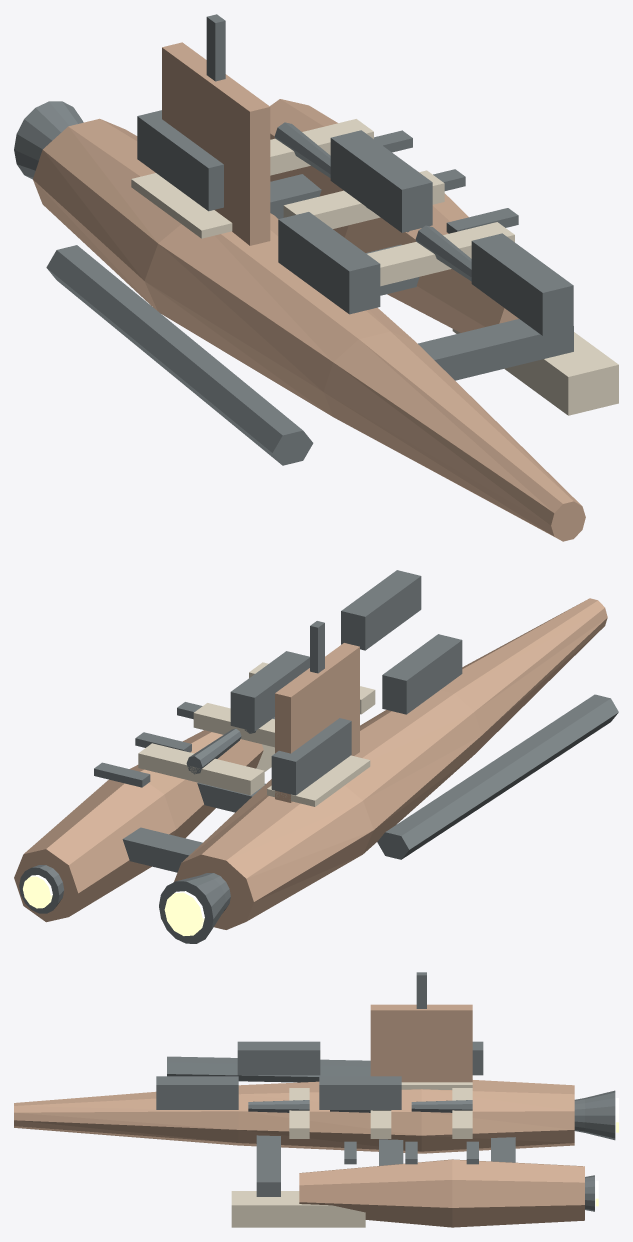
The picture shows the model from 3 angles, top to bottom: view 1: azimuth 30°, elevation 25°; view 2: azimuth 150°, elevation 25°; view 3: azimuth 270°, elevation 25°; orthographic projection. The views are drawn at different scales.
Size of the model in its own units: 8.17 by 6.28 by 17.61.
